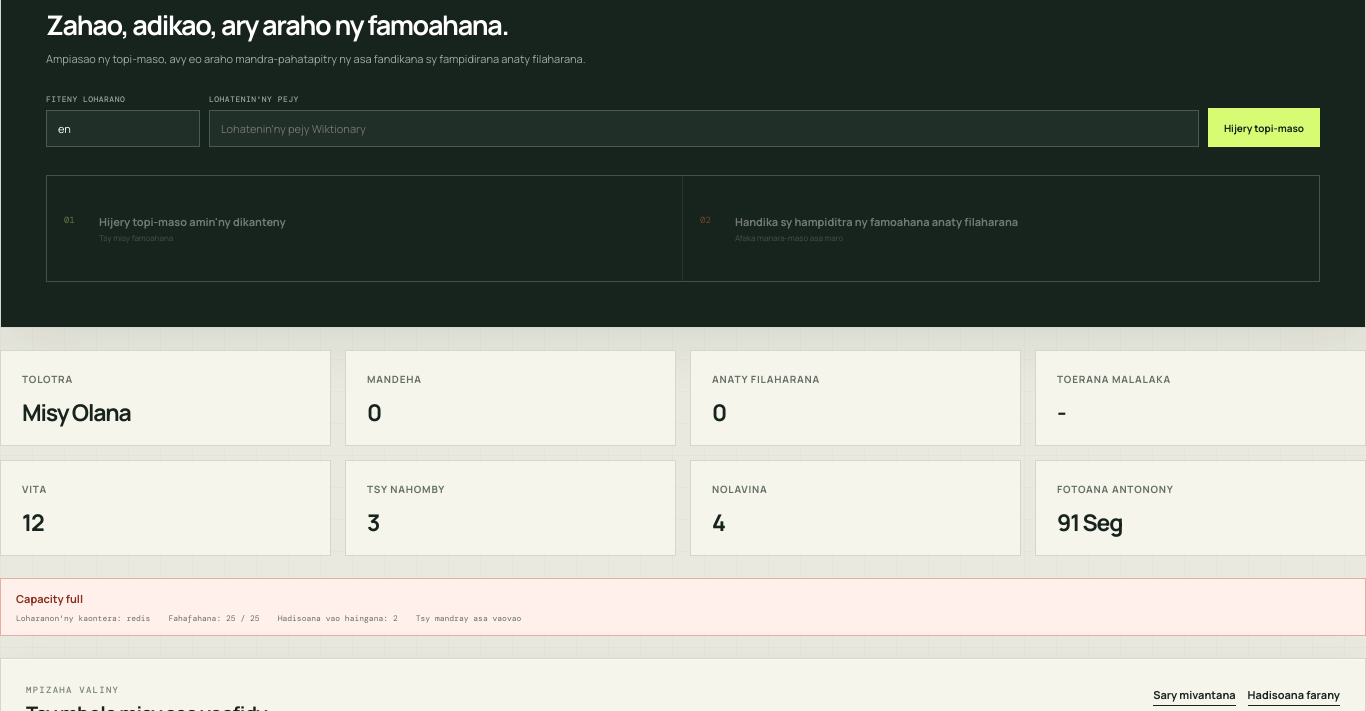
TranslatorWorkspace › shows full health telemetry and inspects a live snapshot
Expected: the text "Capacity full" is shown, [16,591,83,606]
Expected: the text "91 seg" is shown, [1057,506,1122,538]
Type "house" into the field labelled "Lohatenin'ny pejy".
click(704, 128); type("house")  # box [209,110,1199,147]
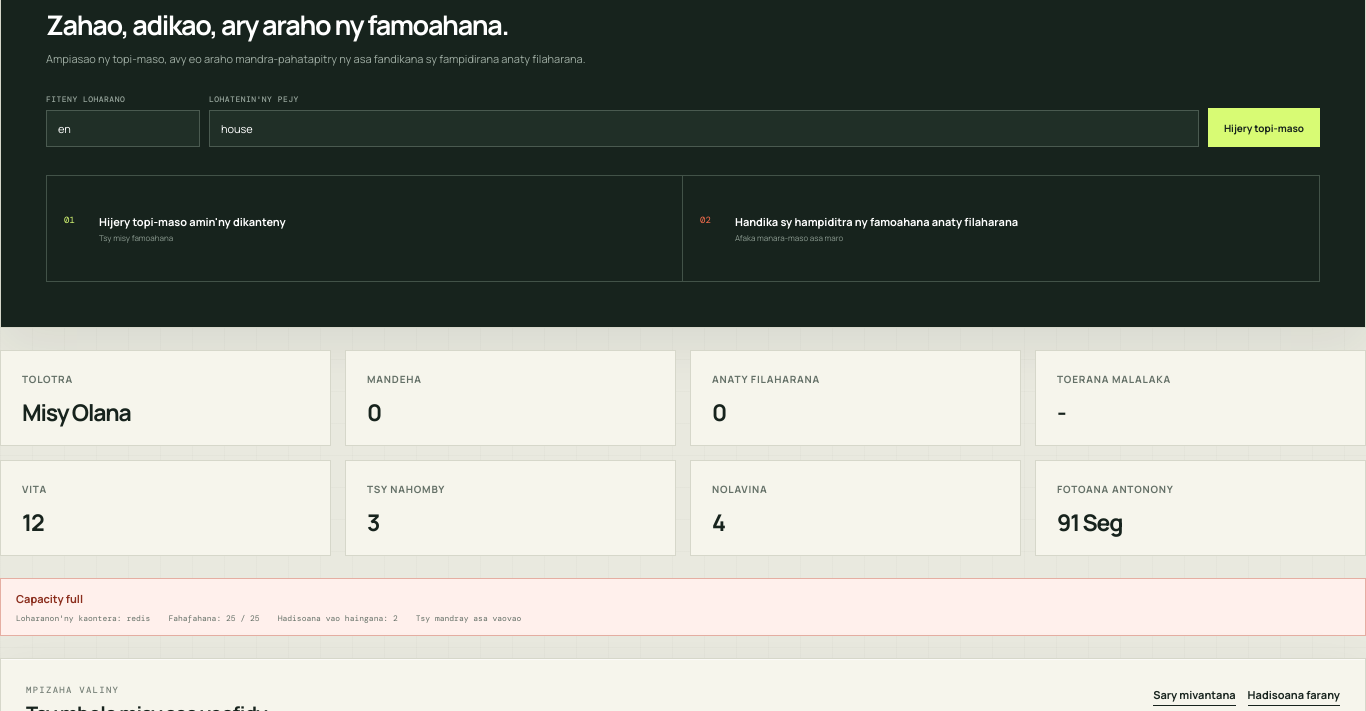
Click the button "Sary mivantana".
click(1194, 695)  # box [1153,684,1236,706]
(page scrolled)
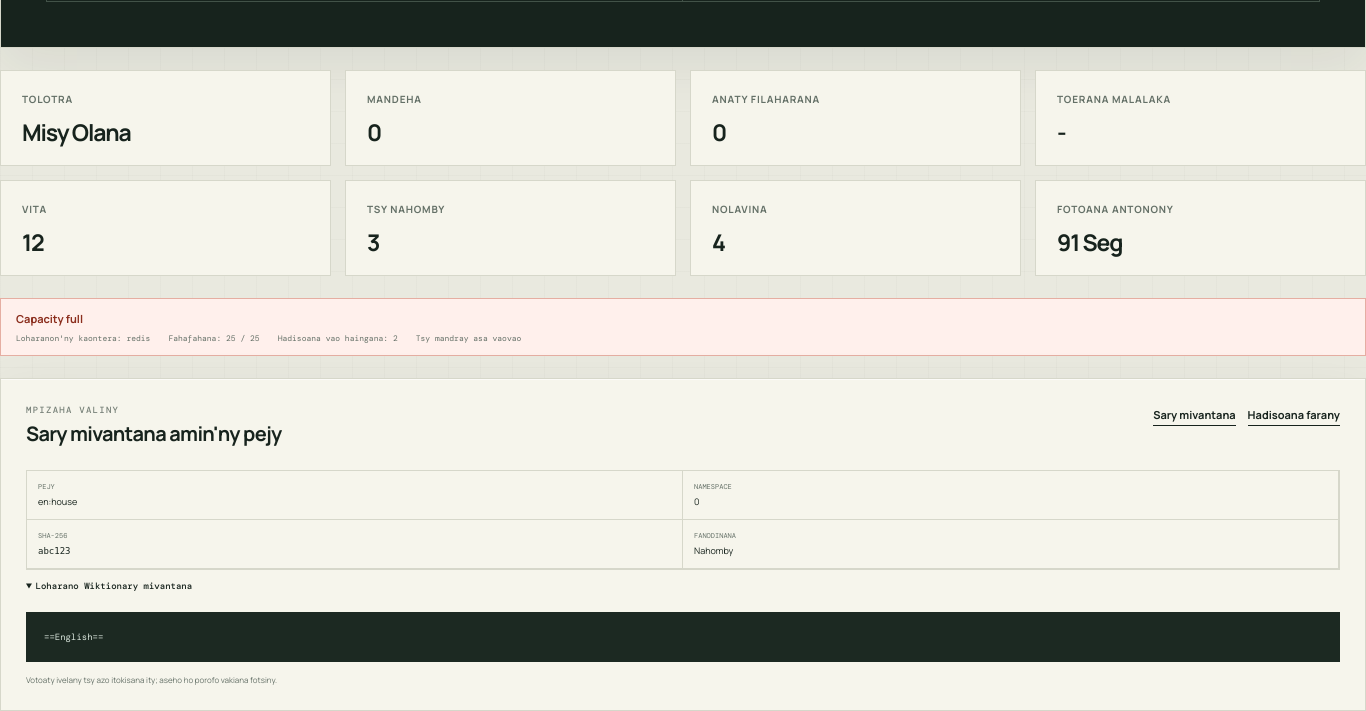
Expected: the text "==English==" is shown, [26,612,1340,662]
Expected: the text "abc123" is shown, [38,546,70,556]
